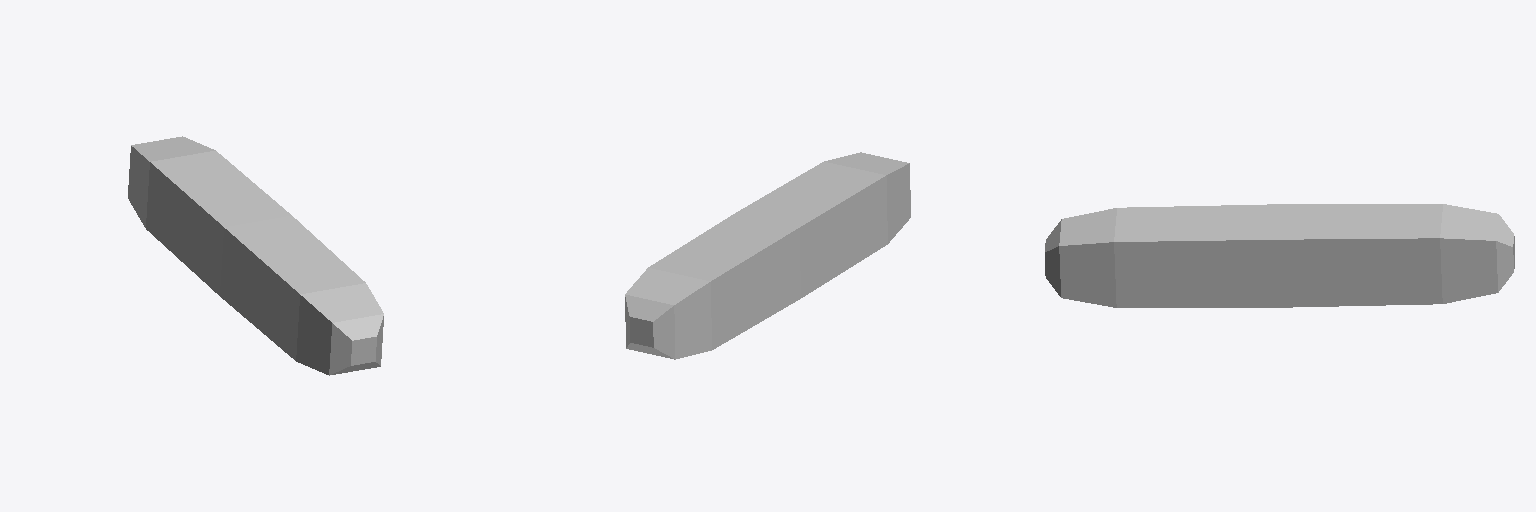
Rendered from left_hand.obj.
3 views of the same model, side by side, from view 1: azimuth 30°, elevation 25°; view 2: azimuth 150°, elevation 25°; view 3: azimuth 270°, elevation 25° (orthographic).
Visible parts, largest first — view 1: ../rami/model/left_hand; view 2: ../rami/model/left_hand; view 3: ../rami/model/left_hand.
Part boxes in pixels (x1,y1,x2,y2): ../rami/model/left_hand: (128, 136, 383, 375); ../rami/model/left_hand: (625, 152, 910, 359); ../rami/model/left_hand: (1045, 204, 1514, 307).
Size of the model in its own units: 0.0427 by 0.0411 by 0.2181.